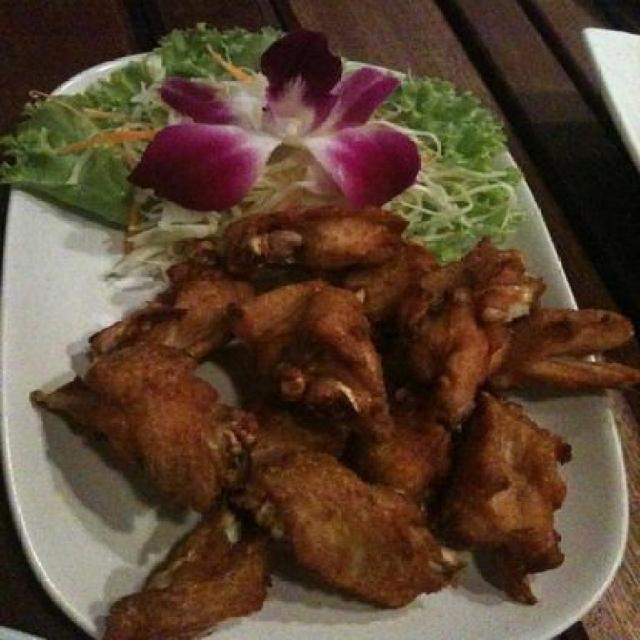Deep fried chicken wing: (69, 206, 597, 611)
